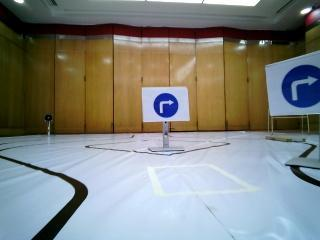right: (271, 60, 319, 112), (142, 89, 188, 119)
